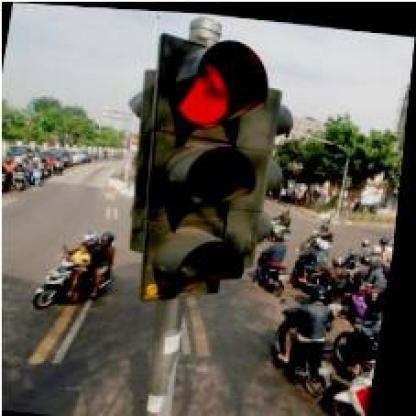red: (126, 28, 282, 306)
